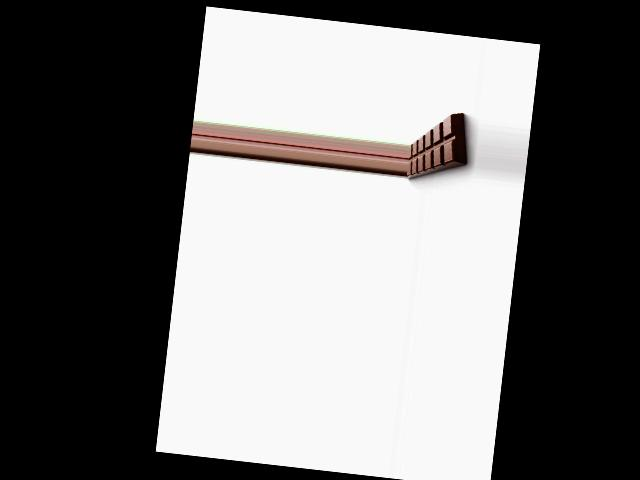chocolate: (406, 107, 474, 189)
